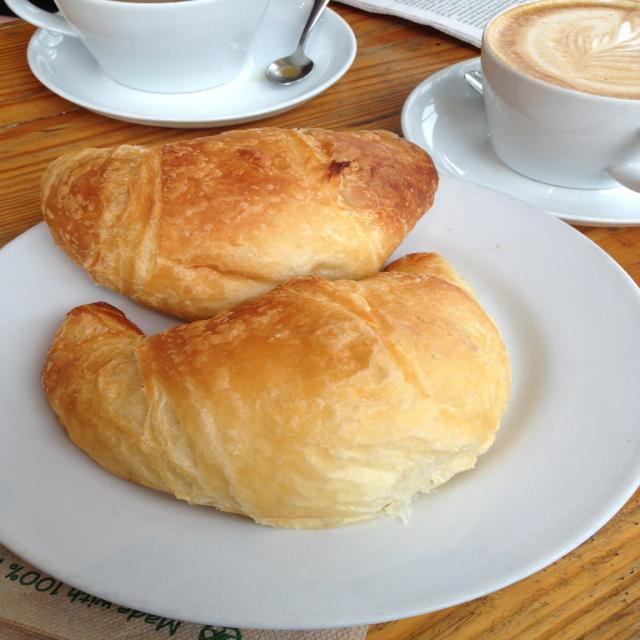Croissant: (38, 251, 510, 530), (38, 124, 439, 321), (38, 131, 440, 318)
